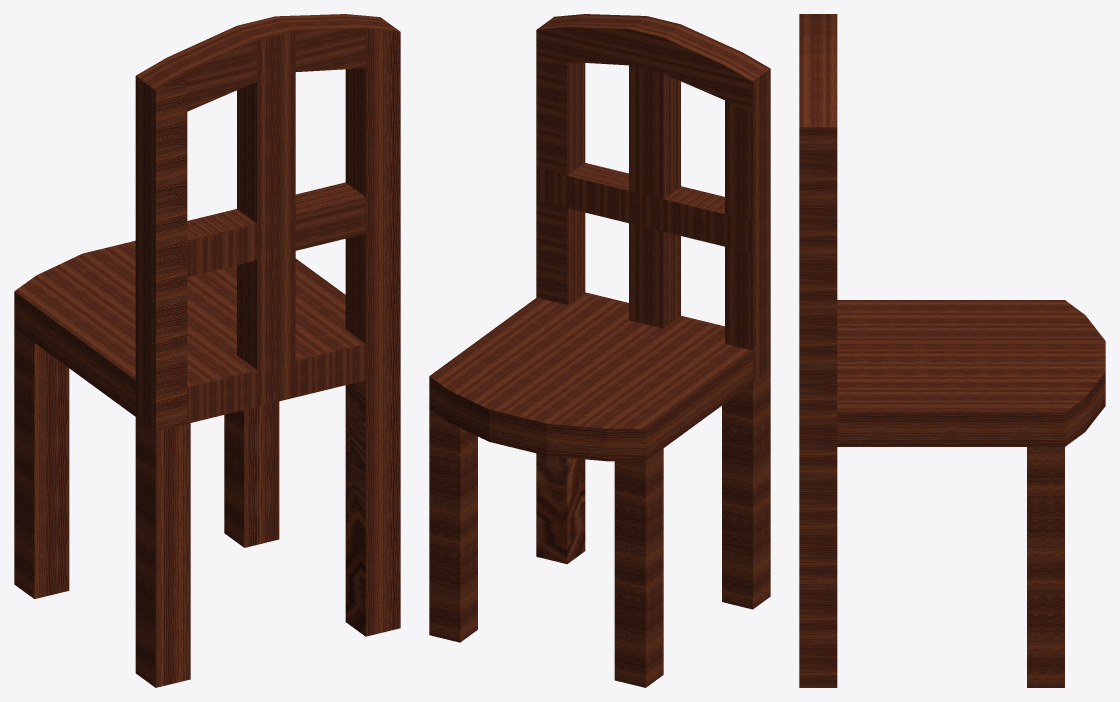
Rendered from Cadeira.fbx.
3 renders of one model, left to right at view 1: azimuth 30°, elevation 25°; view 2: azimuth 150°, elevation 25°; view 3: azimuth 270°, elevation 25°, orthographic. The views are drawn at different scales.
Parts seen in each view (by area): view 1: Cube.393; view 2: Cube.393; view 3: Cube.393.
Boxes of the visible parts, left/top/right/bottom form: Cube.393: left=14, top=14, right=400, bottom=687; Cube.393: left=429, top=14, right=770, bottom=687; Cube.393: left=799, top=14, right=1105, bottom=687.
Bounding box in the file's own units: 98 × 238 × 113.
